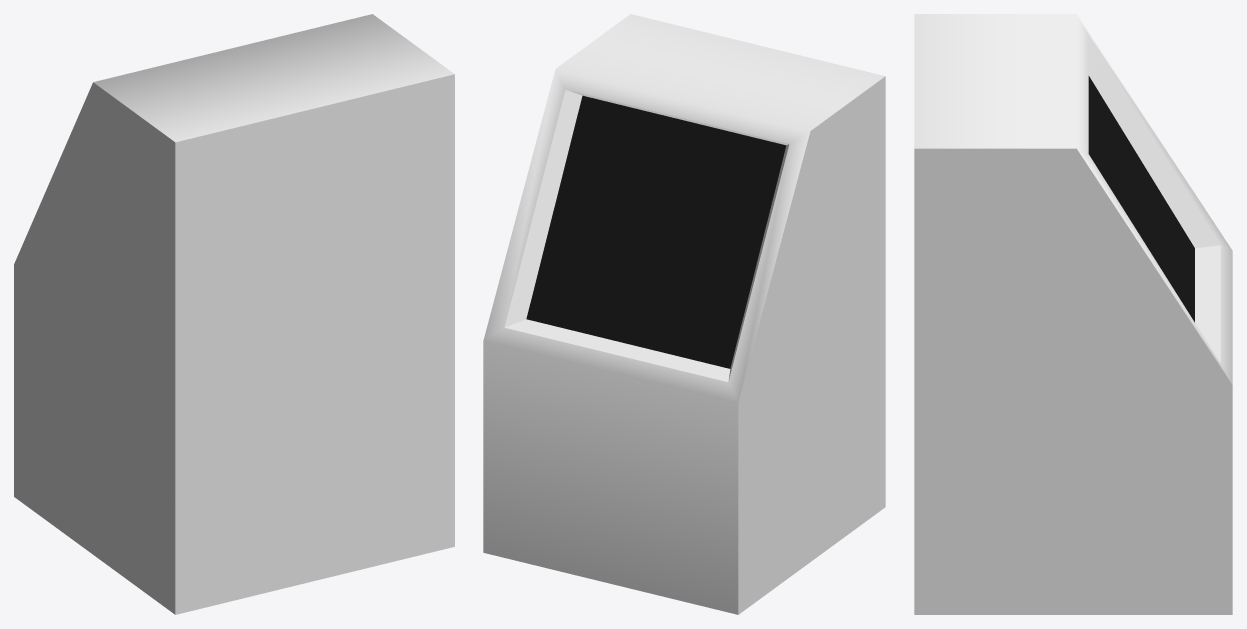
The model's file is ConsoleMesh.glb.
3 renders of one model, left to right at view 1: azimuth 30°, elevation 25°; view 2: azimuth 150°, elevation 25°; view 3: azimuth 270°, elevation 25°, orthographic. The views are drawn at different scales.
Parts seen in each view (by area): view 1: Cube; view 2: Cube; view 3: Cube.
Boxes of the visible parts, box(x1,y1,x2,y2) form: Cube: box(14, 14, 454, 614); Cube: box(483, 14, 885, 614); Cube: box(914, 14, 1232, 614).
Size of the model in its own units: 1 by 1.62 by 1.
2 materials, 1 textured.
